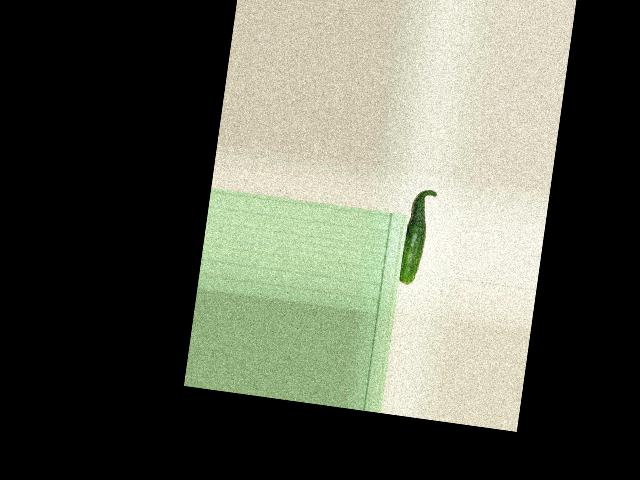cucumber: (398, 187, 437, 286)
